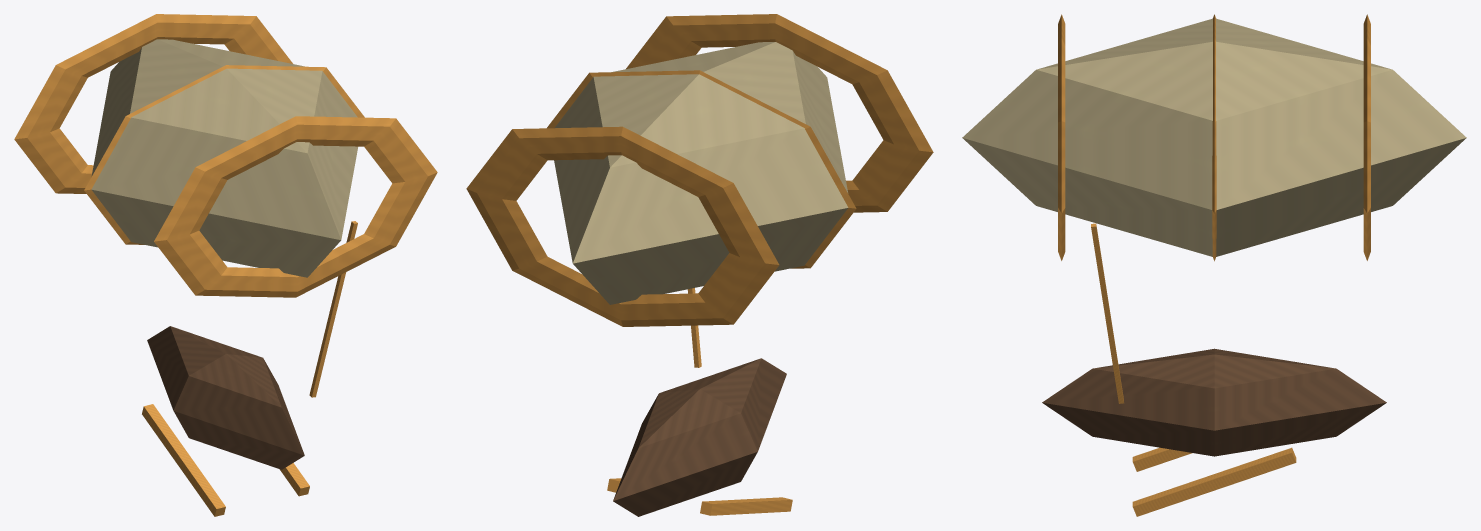
The model's file is atlas100-s012-a01.lod2.glb.
The picture shows the model from 3 angles, left to right: view 1: azimuth 30°, elevation 25°; view 2: azimuth 150°, elevation 25°; view 3: azimuth 270°, elevation 25°; orthographic projection. The views are drawn at different scales.
Visible parts, largest first — view 1: atlas100-s012-a01:part-003, atlas100-s012-a01:part-010, atlas100-s012-a01:part-000, atlas100-s012-a01:part-008, atlas100-s012-a01:part-009, atlas100-s012-a01:part-001, atlas100-s012-a01:part-007, atlas100-s012-a01:part-002; view 2: atlas100-s012-a01:part-003, atlas100-s012-a01:part-008, atlas100-s012-a01:part-000, atlas100-s012-a01:part-010, atlas100-s012-a01:part-009, atlas100-s012-a01:part-001; view 3: atlas100-s012-a01:part-003, atlas100-s012-a01:part-000, atlas100-s012-a01:part-002, atlas100-s012-a01:part-008, atlas100-s012-a01:part-010, atlas100-s012-a01:part-007, atlas100-s012-a01:part-009, atlas100-s012-a01:part-001.
Boxes of the visible parts, x1,y1,x2,y2 form: atlas100-s012-a01:part-003: [91, 39, 357, 277]; atlas100-s012-a01:part-010: [154, 116, 437, 297]; atlas100-s012-a01:part-000: [147, 326, 304, 469]; atlas100-s012-a01:part-008: [14, 14, 292, 193]; atlas100-s012-a01:part-009: [84, 65, 364, 244]; atlas100-s012-a01:part-001: [142, 404, 225, 516]; atlas100-s012-a01:part-007: [309, 221, 357, 397]; atlas100-s012-a01:part-002: [279, 463, 309, 496]; atlas100-s012-a01:part-003: [554, 42, 848, 304]; atlas100-s012-a01:part-008: [466, 126, 779, 326]; atlas100-s012-a01:part-000: [613, 358, 786, 516]; atlas100-s012-a01:part-010: [626, 14, 933, 212]; atlas100-s012-a01:part-009: [547, 70, 856, 268]; atlas100-s012-a01:part-001: [700, 497, 792, 515]; atlas100-s012-a01:part-003: [962, 18, 1466, 256]; atlas100-s012-a01:part-000: [1042, 348, 1386, 456]; atlas100-s012-a01:part-002: [1132, 447, 1296, 516]; atlas100-s012-a01:part-008: [1363, 14, 1370, 260]; atlas100-s012-a01:part-010: [1058, 14, 1065, 260]; atlas100-s012-a01:part-007: [1091, 223, 1123, 403]; atlas100-s012-a01:part-009: [1212, 14, 1216, 261]; atlas100-s012-a01:part-001: [1132, 447, 1192, 471].
Bounding box in the file's own units: 2.7 × 3.77 × 3.8.
Materials: 3 (3 with a texture image).
